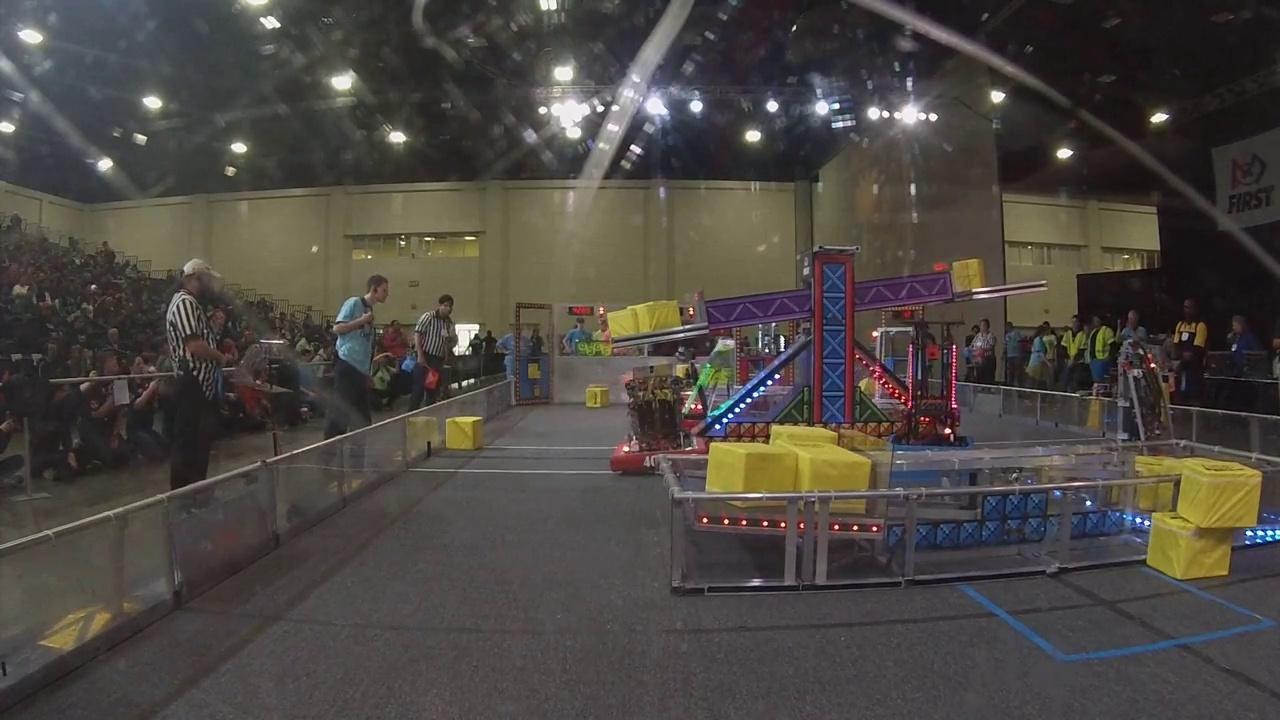robot: (886, 320, 977, 467), (610, 371, 708, 474)
